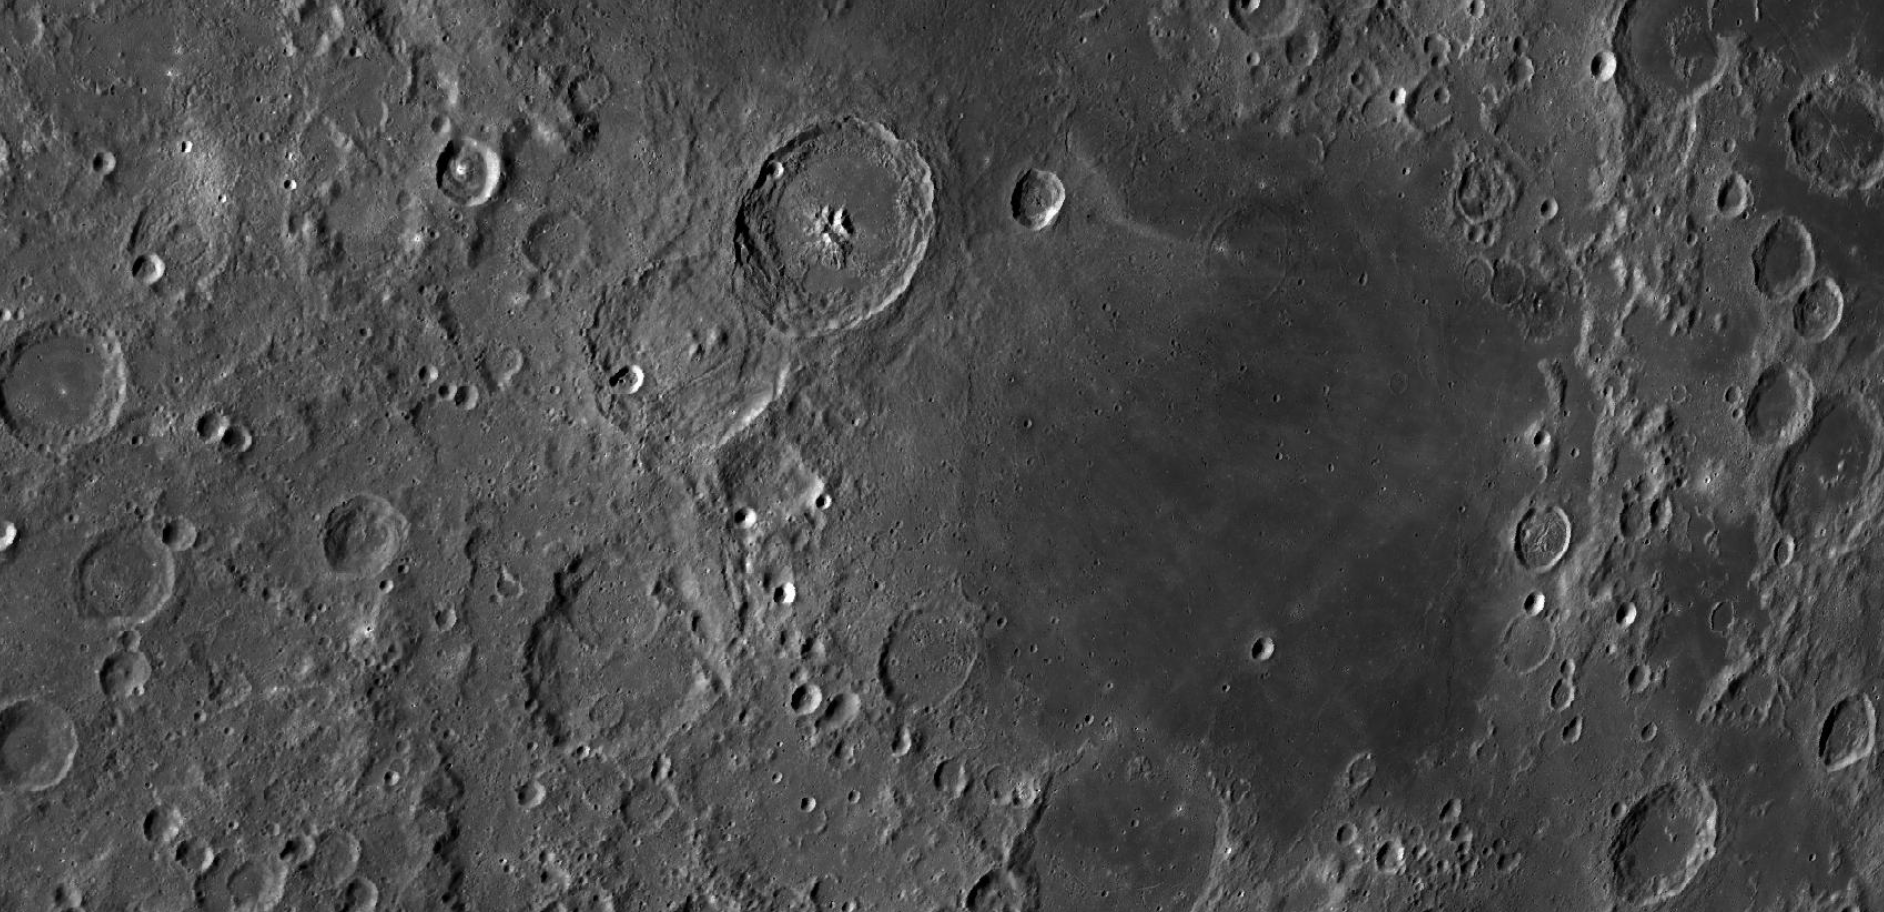crater: (710, 109, 955, 376), (505, 546, 749, 781), (568, 252, 816, 479), (1171, 556, 1375, 725), (1582, 770, 1742, 907), (865, 594, 1010, 733), (1771, 50, 1884, 209), (982, 137, 1089, 278), (58, 521, 183, 637), (1729, 346, 1831, 469), (310, 491, 424, 598), (399, 129, 520, 223), (1801, 666, 1884, 791), (1486, 484, 1580, 580), (1566, 26, 1647, 117), (87, 637, 165, 711), (606, 776, 690, 844), (558, 62, 625, 132), (121, 248, 186, 298), (1077, 703, 1102, 737)
